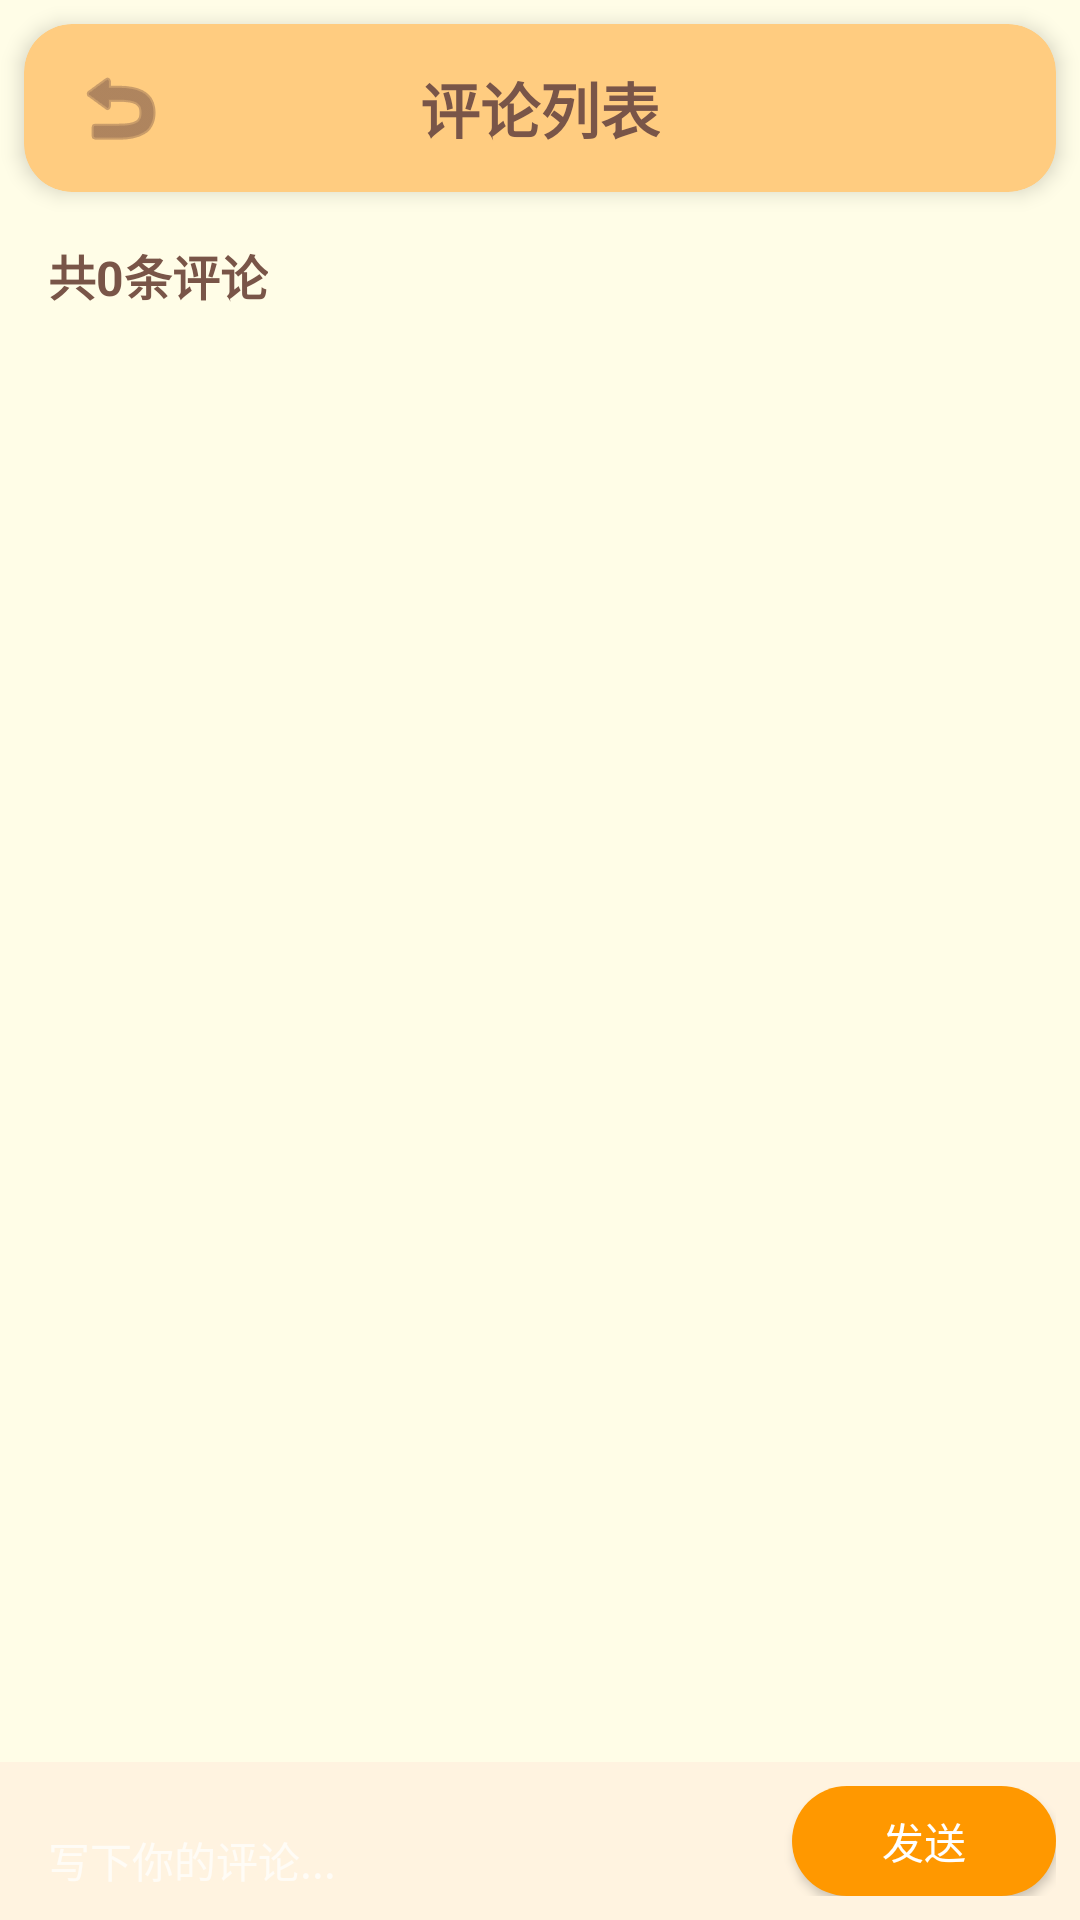

Where icons sit on this 1080×1920 app screen, as Rect(x1, y1, x2, y2):
revert: Rect(87, 78, 156, 140)
